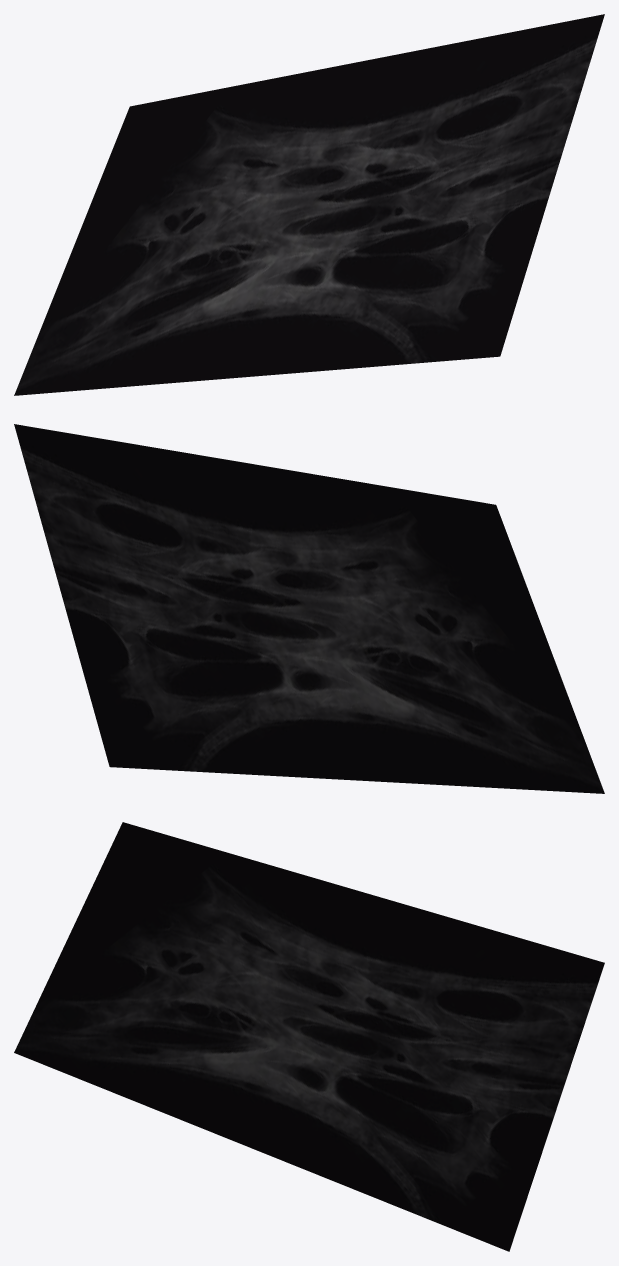
File: web4_simple.fbx
3 views of the same model, one above another, from view 1: azimuth 30°, elevation 25°; view 2: azimuth 150°, elevation 25°; view 3: azimuth 330°, elevation 25° (orthographic).
Parts seen in each view (by area): view 1: web4_simple; view 2: web4_simple; view 3: web4_simple.
Part boxes in pixels (x1,y1,x2,y2): web4_simple: (14,14,604,395); web4_simple: (14,424,604,793); web4_simple: (14,822,604,1251).
Size of the model in its own units: 11.29 by 6.36 by 0.359.
